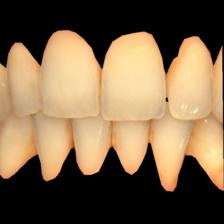cavity: (63, 122, 77, 148), (107, 122, 118, 148), (27, 135, 40, 156), (162, 177, 179, 193), (212, 170, 224, 191), (146, 125, 156, 144), (97, 71, 104, 94), (187, 143, 196, 155), (193, 122, 203, 131)
tooth: (99, 31, 165, 122), (40, 32, 100, 115), (166, 30, 210, 120), (151, 121, 200, 192), (33, 117, 77, 181), (7, 43, 44, 114), (73, 119, 111, 176), (195, 122, 224, 194), (2, 114, 32, 180), (112, 120, 146, 175)
